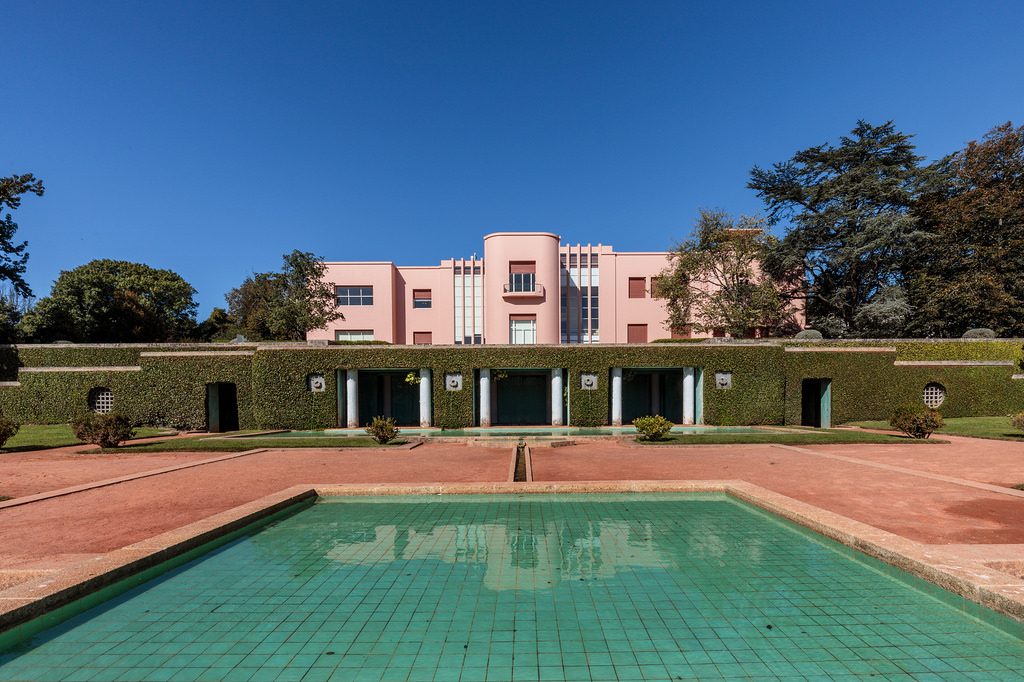serralves: (301, 225, 811, 345)
